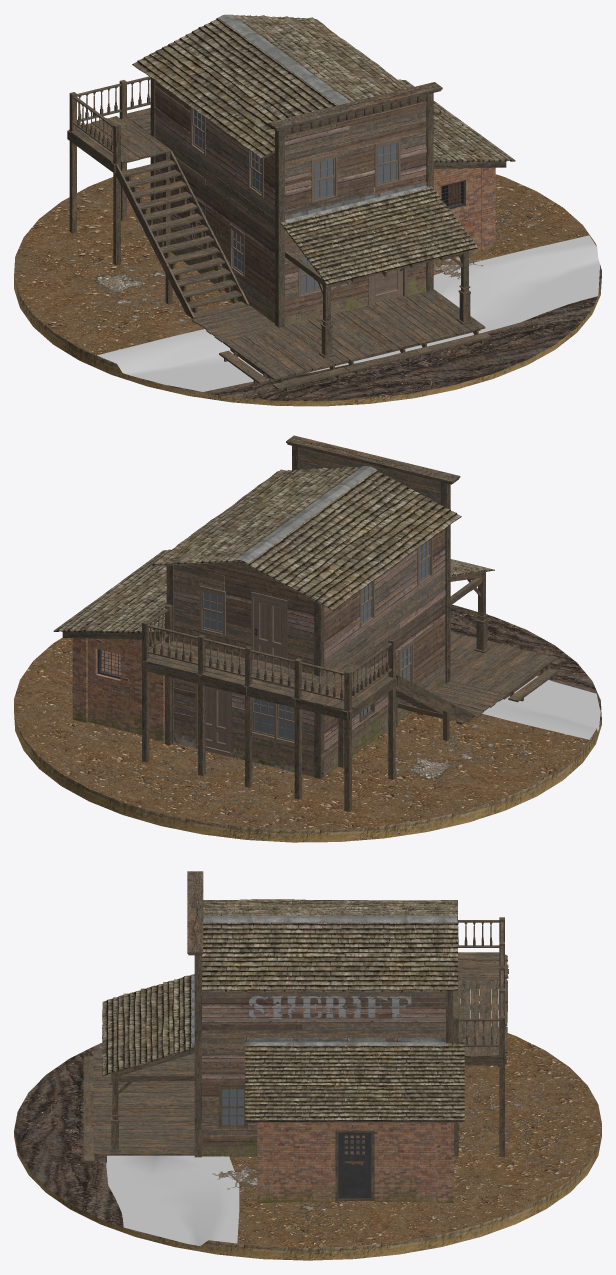
3 renders of one model, top to bottom at view 1: azimuth 30°, elevation 25°; view 2: azimuth 150°, elevation 25°; view 3: azimuth 270°, elevation 25°, orthographic.
Parts seen in each view (by area): view 1: Circle.001_53, roof_1.001_33, Circle.002_68, roof_small.001_32, polySurface149.001_29, wall_front1.001_31, desks_big.001_11, stairs_big.001_17, polySurface51.001_19, polySurface129.002_35, window_double_2.001_6, stairs_small.001_18 (+14 smaller); view 2: Circle.001_53, roof_1.001_33, polySurface51.001_19, polySurface149.001_29, polySurface129.002_35, polySurface123.001_30, window_double_2.001_6, Circle.002_68, desks_big.001_11, stairs_big.001_17, balk_48.001_8, TexturesCom_DecalsDamageFloor0022_2_masked_S_82 (+13 smaller); view 3: Circle.001_53, polySurface129.002_35, roof_1.001_33, polySurface136.001_34, Circle.002_68, roof_small.001_32, desks_big.001_11, polySurface51.001_19, TexturesCom_DecalLeakingMossy0008_1_masked_S.001_76, pCube172.001_25, Sheriff1.001_67, balk_2.001_3 (+7 smaller).
Part boxes in pixels (x1,y1,x2,y2): Circle.001_53: (14,171,601,406); roof_1.001_33: (132,14,444,158); Circle.002_68: (97,235,599,391); roof_small.001_32: (280,185,477,358); polySurface149.001_29: (153,81,274,322); wall_front1.001_31: (285,101,426,324); desks_big.001_11: (223,289,485,380); stairs_big.001_17: (116,150,249,319); polySurface51.001_19: (67,76,171,265); polySurface129.002_35: (398,79,515,262); window_double_2.001_6: (190,107,407,305); stairs_small.001_18: (219,329,491,391); Circle.001_53: (14,604,601,842); roof_1.001_33: (149,466,461,610); polySurface51.001_19: (141,604,396,811); polySurface149.001_29: (321,529,445,775); polySurface129.002_35: (53,549,170,741); polySurface123.001_30: (173,562,314,775); window_double_2.001_6: (195,538,432,757); Circle.002_68: (482,676,600,739); desks_big.001_11: (450,632,557,695); stairs_big.001_17: (385,675,474,740); balk_48.001_8: (286,435,460,484); TexturesCom_DecalsDamageFloor0022_2_masked_S_82: (363,721,531,799); Circle.001_53: (14,1021,601,1260); polySurface129.002_35: (245,1042,464,1202); roof_1.001_33: (202,899,457,990); polySurface136.001_34: (202,989,445,1156); Circle.002_68: (106,1155,239,1245); roof_small.001_32: (102,974,194,1151); desks_big.001_11: (92,1051,196,1155); polySurface51.001_19: (453,917,508,1156); TexturesCom_DecalLeakingMossy0008_1_masked_S.001_76: (202,1135,453,1202); pCube172.001_25: (338,1132,371,1198); Sheriff1.001_67: (248,996,411,1019); balk_2.001_3: (194,955,201,1157).
Bounding box in the file's own units: 5.64 × 2.33 × 5.64.
